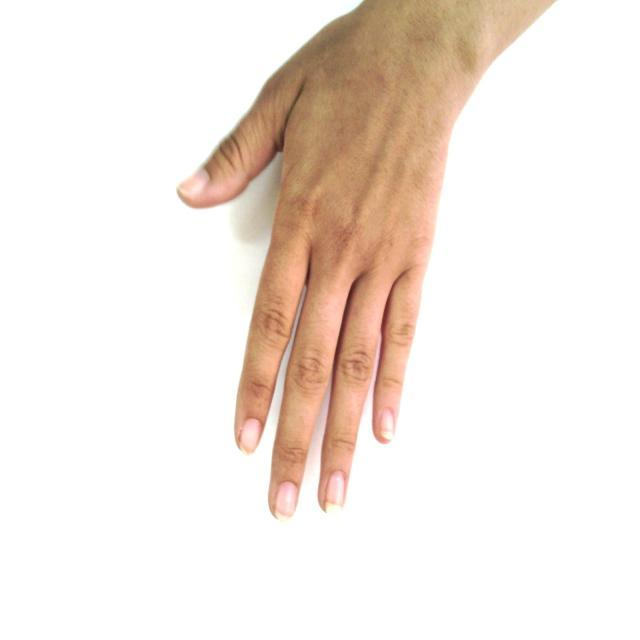Fingernail: (276, 482, 298, 521), (326, 472, 345, 516), (180, 169, 208, 197), (240, 420, 260, 453), (381, 408, 394, 440)
